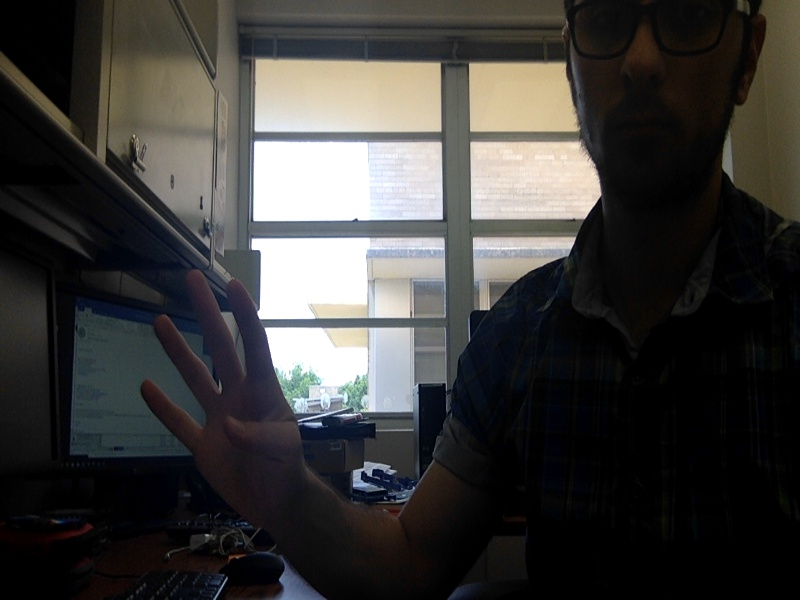4-hand: (137, 270, 314, 521)
